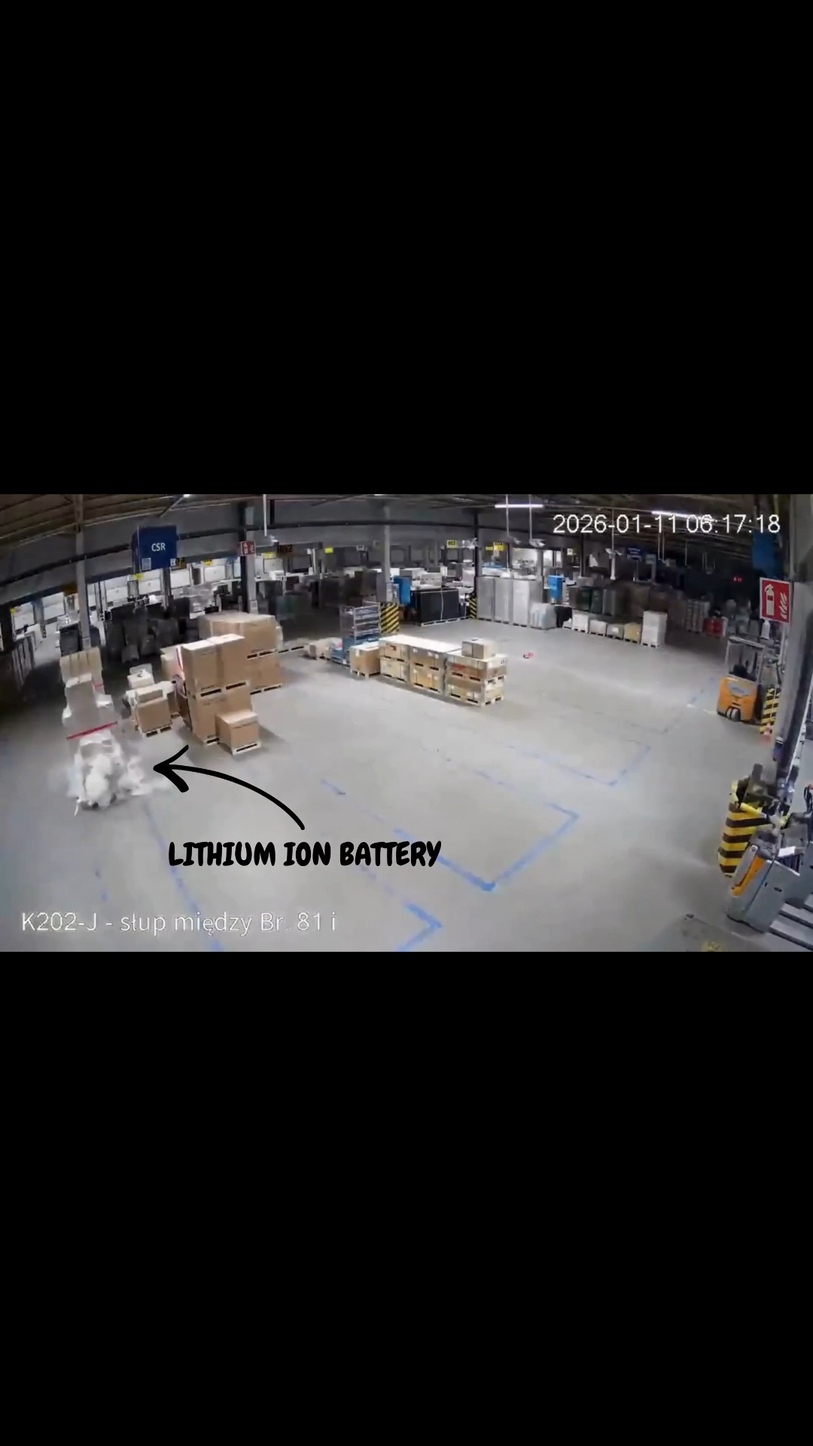smoke: (53, 732, 166, 825)
